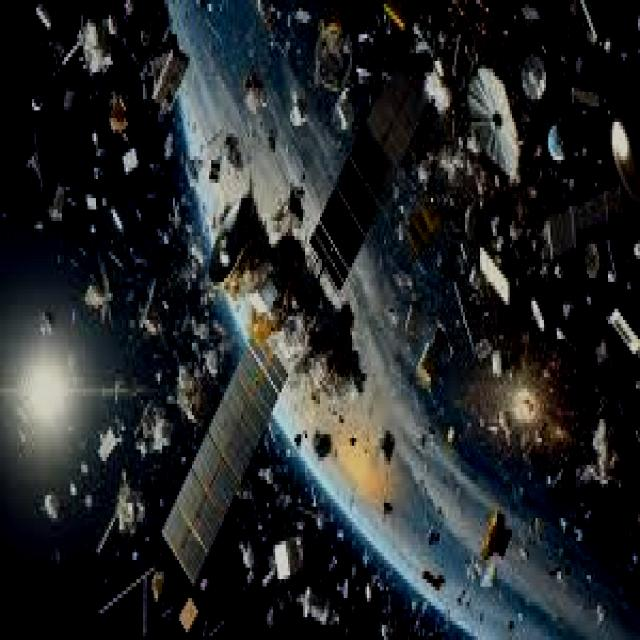large_debris: (140, 44, 452, 594)
medium_debris: (452, 43, 528, 196), (539, 176, 640, 264), (36, 0, 129, 87), (98, 472, 162, 560), (158, 340, 216, 424), (472, 232, 537, 298), (257, 519, 312, 588), (127, 396, 181, 458)
small_debris: (365, 550, 399, 593), (372, 427, 403, 466), (525, 401, 555, 437), (185, 314, 220, 344), (457, 0, 494, 26), (381, 0, 412, 31), (474, 326, 499, 360), (544, 557, 573, 583), (336, 568, 358, 601), (122, 144, 146, 173), (439, 416, 463, 443), (258, 457, 283, 481), (335, 101, 353, 133), (554, 509, 580, 531), (552, 320, 572, 346), (537, 61, 553, 93), (489, 169, 512, 191), (522, 7, 546, 28), (578, 139, 600, 159), (494, 232, 511, 254), (583, 287, 599, 310), (383, 493, 393, 523)
